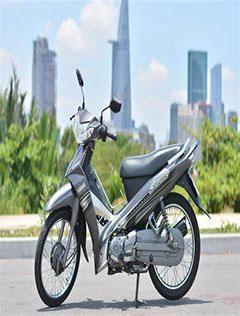motorcycle: (19, 65, 228, 311)
